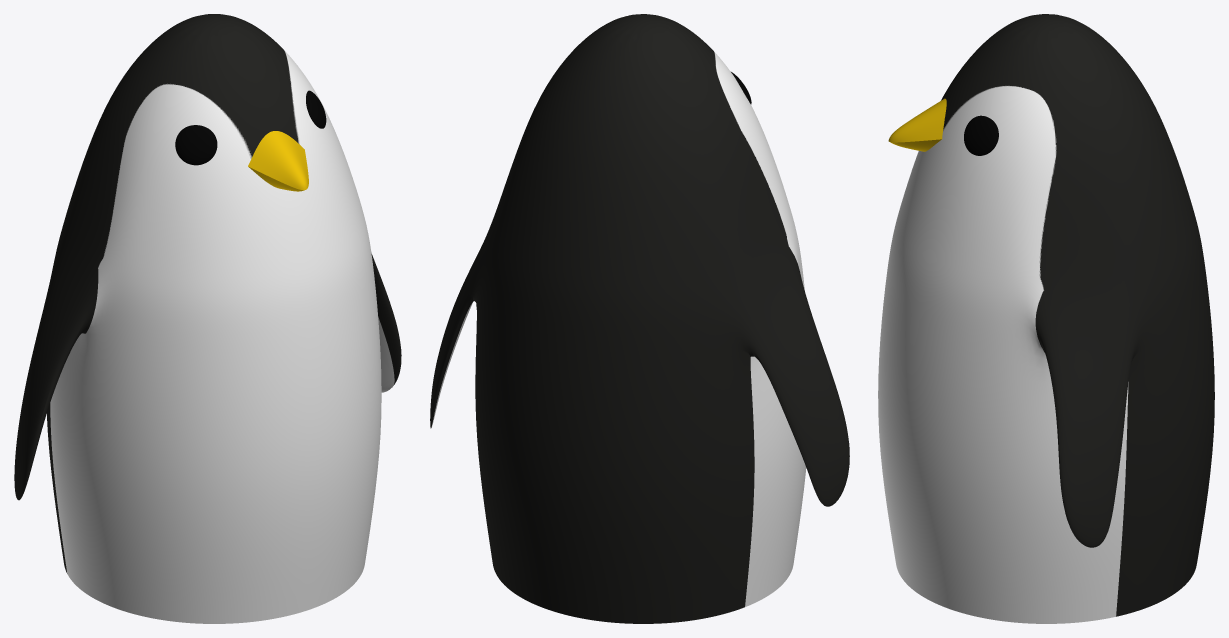
File: pinguino.glb
3 renders of one model, left to right at view 1: azimuth 30°, elevation 25°; view 2: azimuth 150°, elevation 25°; view 3: azimuth 270°, elevation 25°, orthographic.
Parts seen in each view (by area): view 1: PINGÜ; view 2: PINGÜ; view 3: PINGÜ.
Boxes of the visible parts, <box> form: PINGÜ: <box>14,14,401,623</box>; PINGÜ: <box>430,14,849,623</box>; PINGÜ: <box>878,14,1214,623</box>.
Size of the model in its own units: 6.13 by 8.01 by 4.53.
3 materials, 1 textured.
